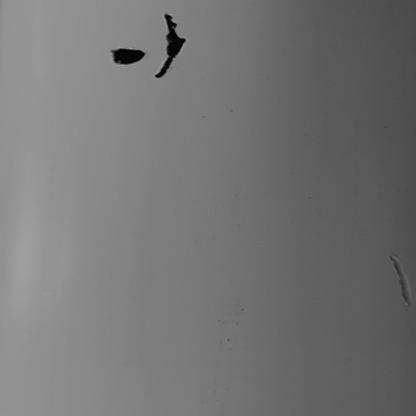kongdong: (154, 12, 192, 79), (109, 47, 149, 67)
sunshang: (388, 256, 414, 304)
